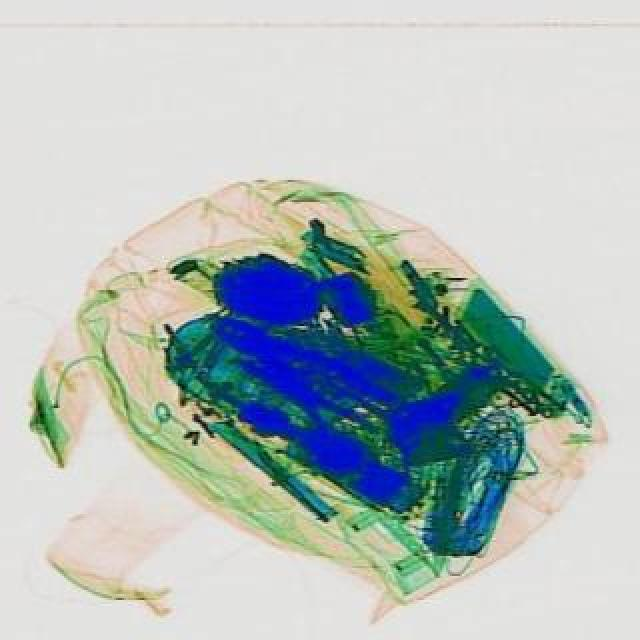wrench: (196, 292, 394, 442)
